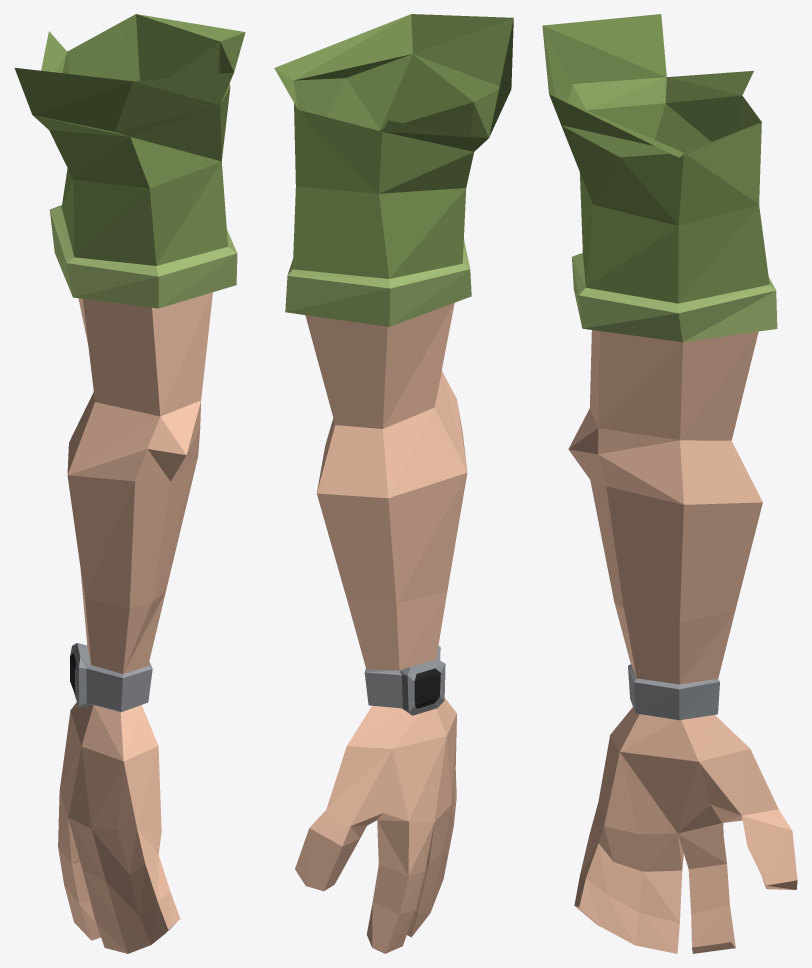
The model's file is ArmL.obj.
3 views of the same model, side by side, from view 1: azimuth 30°, elevation 25°; view 2: azimuth 150°, elevation 25°; view 3: azimuth 270°, elevation 25° (orthographic). The views are drawn at different scales.
Size of the model in its own units: 0.2291 by 0.8441 by 0.215.
Materials: 1 (1 with a texture image).
